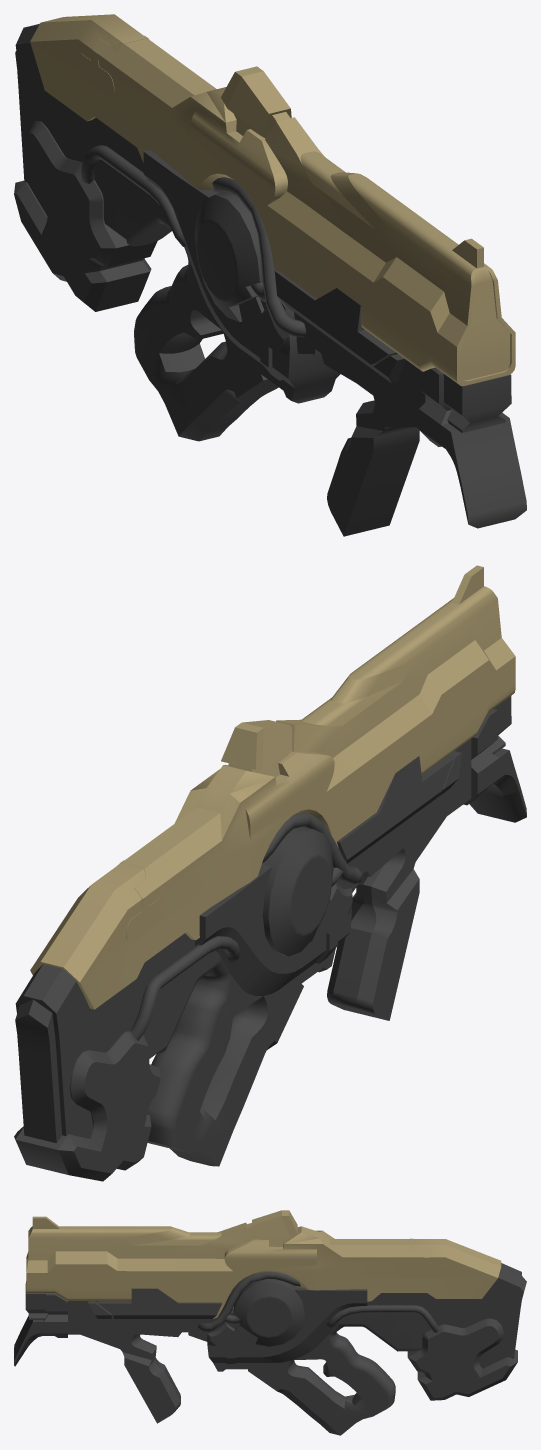
Rendered from plasma rifle.fbx.
The picture shows the model from 3 angles, top to bottom: view 1: azimuth 30°, elevation 25°; view 2: azimuth 150°, elevation 25°; view 3: azimuth 270°, elevation 25°; orthographic projection. The views are drawn at different scales.
Parts seen in each view (by area): view 1: Cube.023; view 2: Cube.023; view 3: Cube.023.
Boxes of the visible parts, bbox=[...] form: Cube.023: bbox=[14, 14, 526, 536]; Cube.023: bbox=[14, 565, 526, 1181]; Cube.023: bbox=[14, 1210, 526, 1435].
Size of the model in its own units: 57.44 by 232 by 492.
